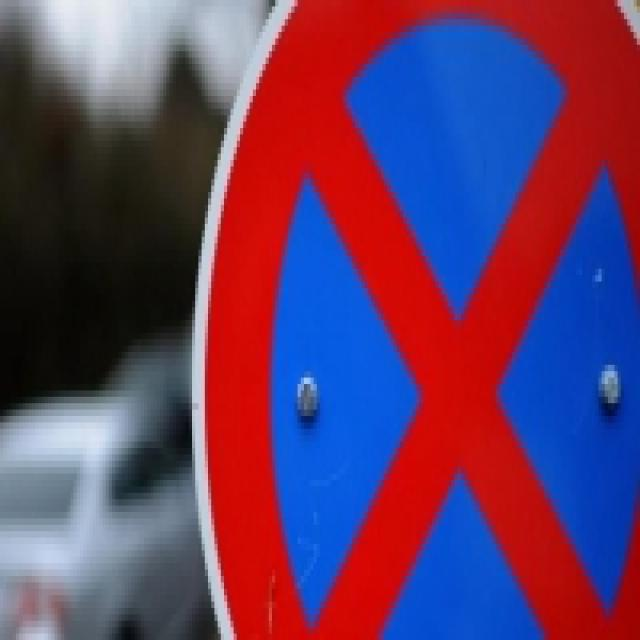no stopping: (182, 0, 640, 634)
